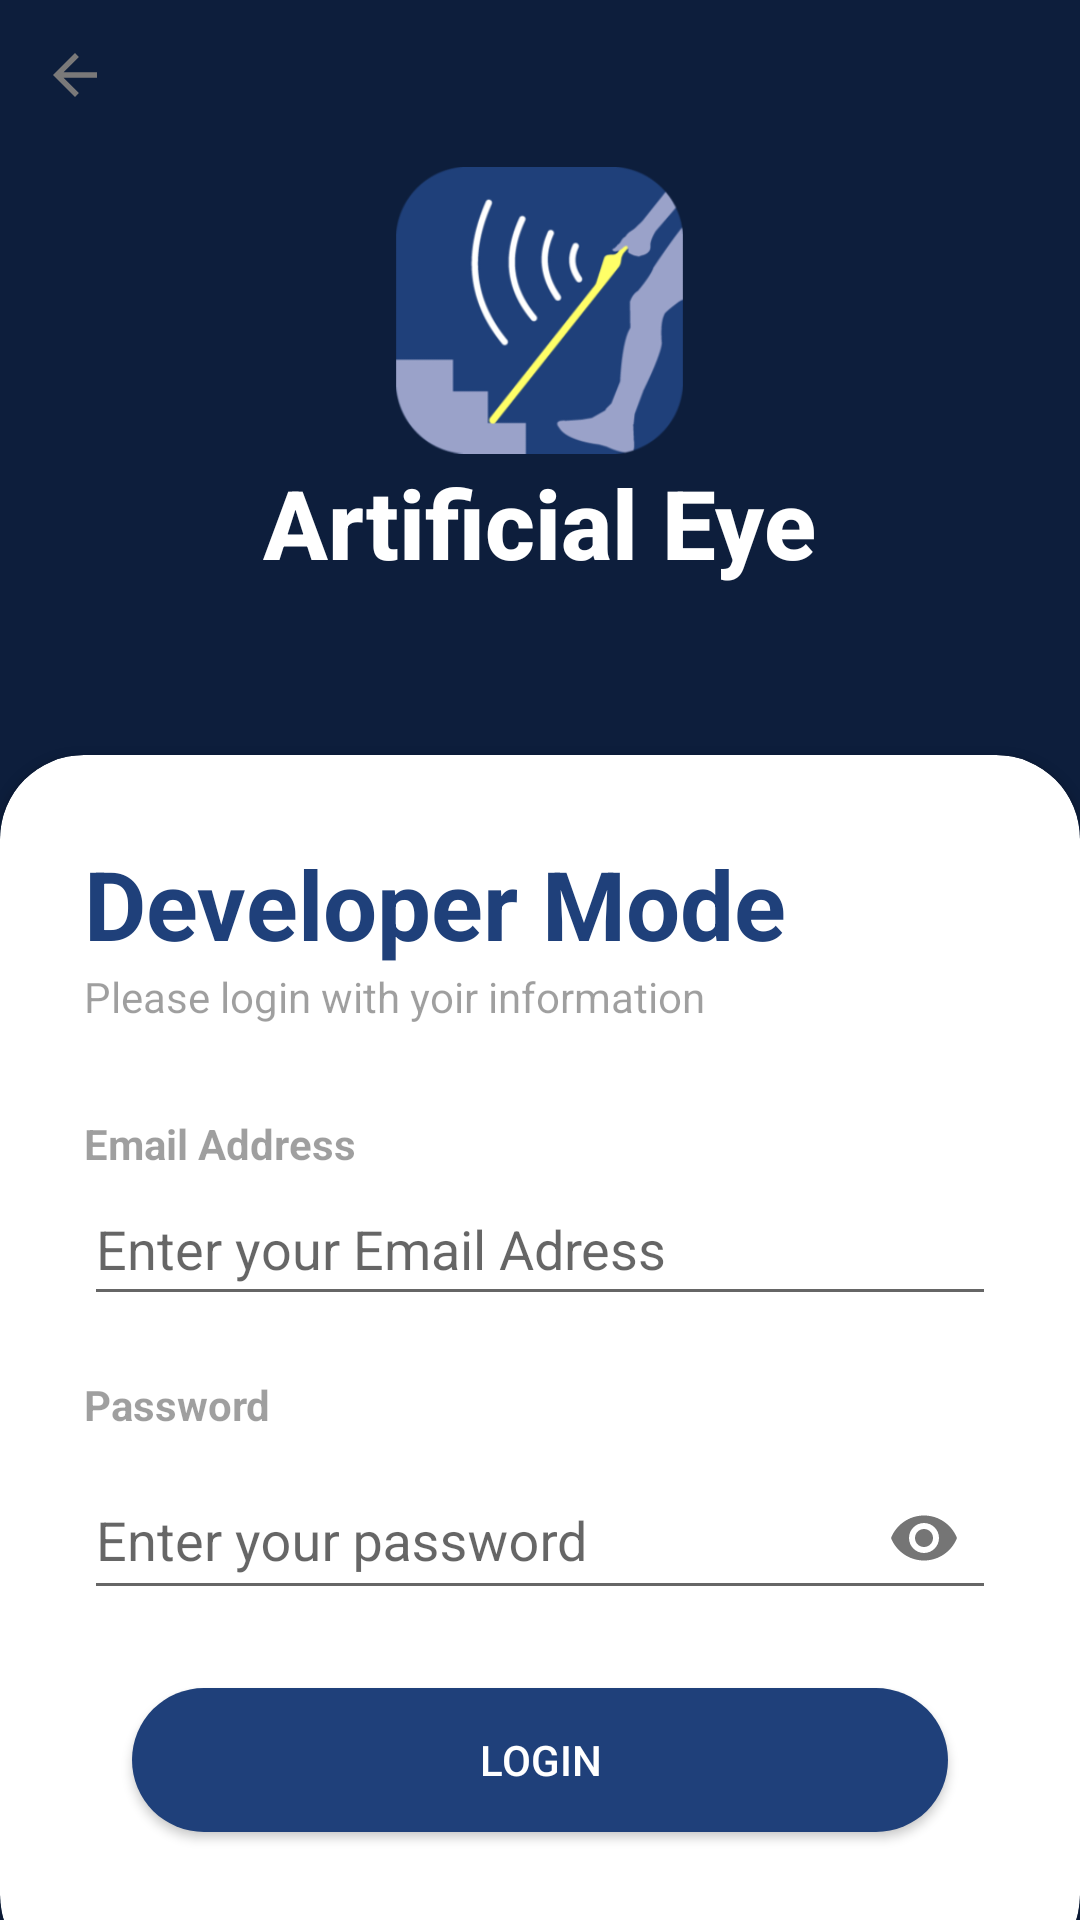

Where to tap for icons on this 1080*1920 app screen, as (x=x, y=y):
arrow back: (x=75, y=75)
